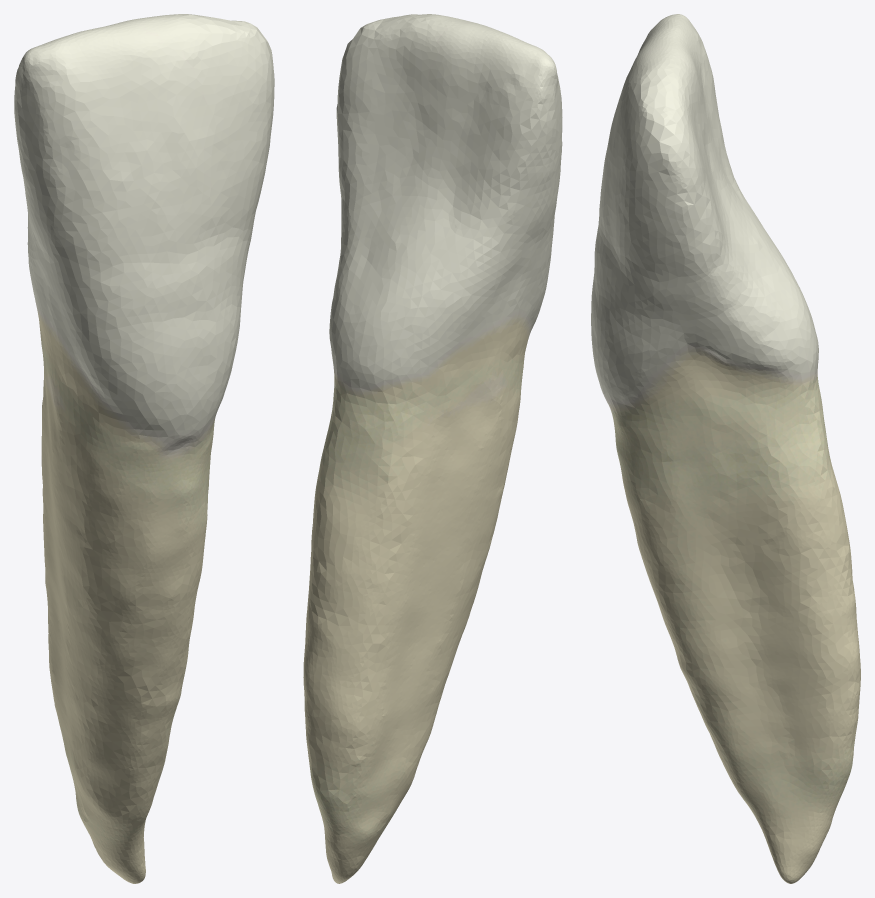
The model's file is 32 - incisivo lateral inferior esquerdo.glb.
3 renders of one model, left to right at view 1: azimuth 30°, elevation 25°; view 2: azimuth 150°, elevation 25°; view 3: azimuth 270°, elevation 25°, orthographic. The views are drawn at different scales.
Parts seen in each view (by area): view 1: 3MFMeshParent_0; view 2: 3MFMeshParent_0; view 3: 3MFMeshParent_0.
Boxes of the visible parts, x1,y1,x2,y2 form: 3MFMeshParent_0: (14, 14, 274, 883); 3MFMeshParent_0: (303, 14, 562, 883); 3MFMeshParent_0: (591, 14, 860, 883).
Bounding box in the file's own units: 0.1399 × 0.512 × 0.1552.
Materials: 1 (1 with a texture image).
